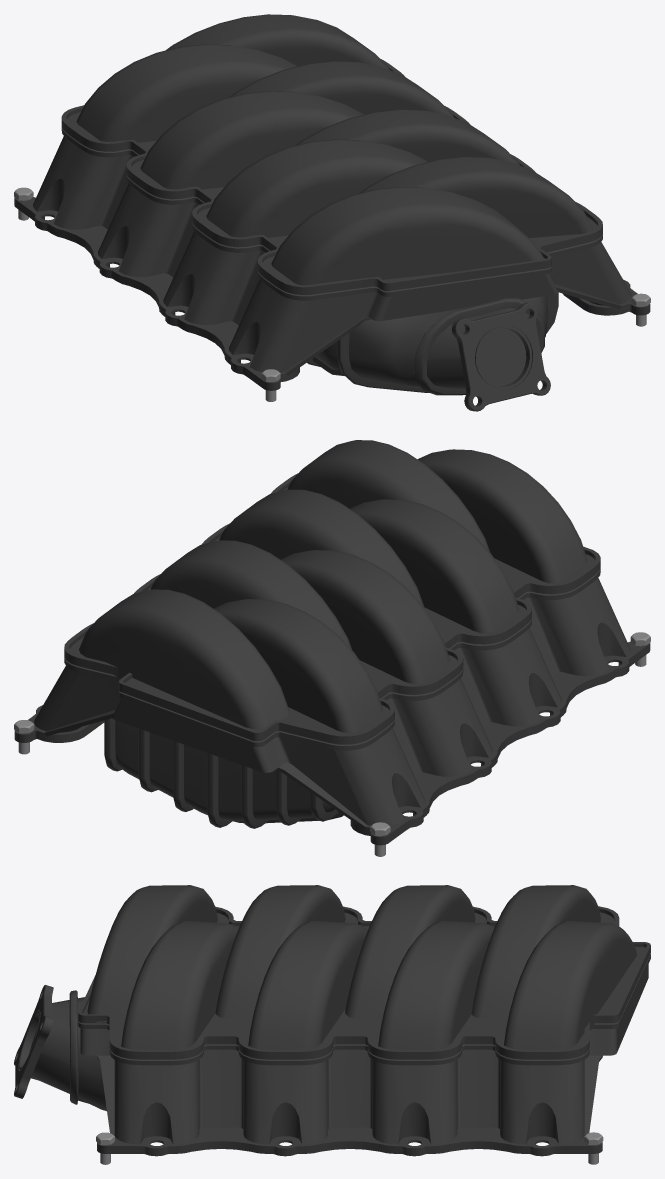
File: intake.glb
3 views of the same model, one above another, from view 1: azimuth 30°, elevation 25°; view 2: azimuth 150°, elevation 25°; view 3: azimuth 270°, elevation 25° (orthographic). The views are drawn at different scales.
Visible parts, largest first — view 1: v8_coyote_kolektor_dolotowy(0); view 2: v8_coyote_kolektor_dolotowy(0); view 3: v8_coyote_kolektor_dolotowy(0).
Part boxes in pixels (<box>): v8_coyote_kolektor_dolotowy(0): <box>14,14,650,411</box>; v8_coyote_kolektor_dolotowy(0): <box>14,440,650,845</box>; v8_coyote_kolektor_dolotowy(0): <box>14,885,650,1156</box>.
Bounding box in the file's own units: 0.00723 × 0.00367 × 0.0107.
Materials: 2 (1 with a texture image).
